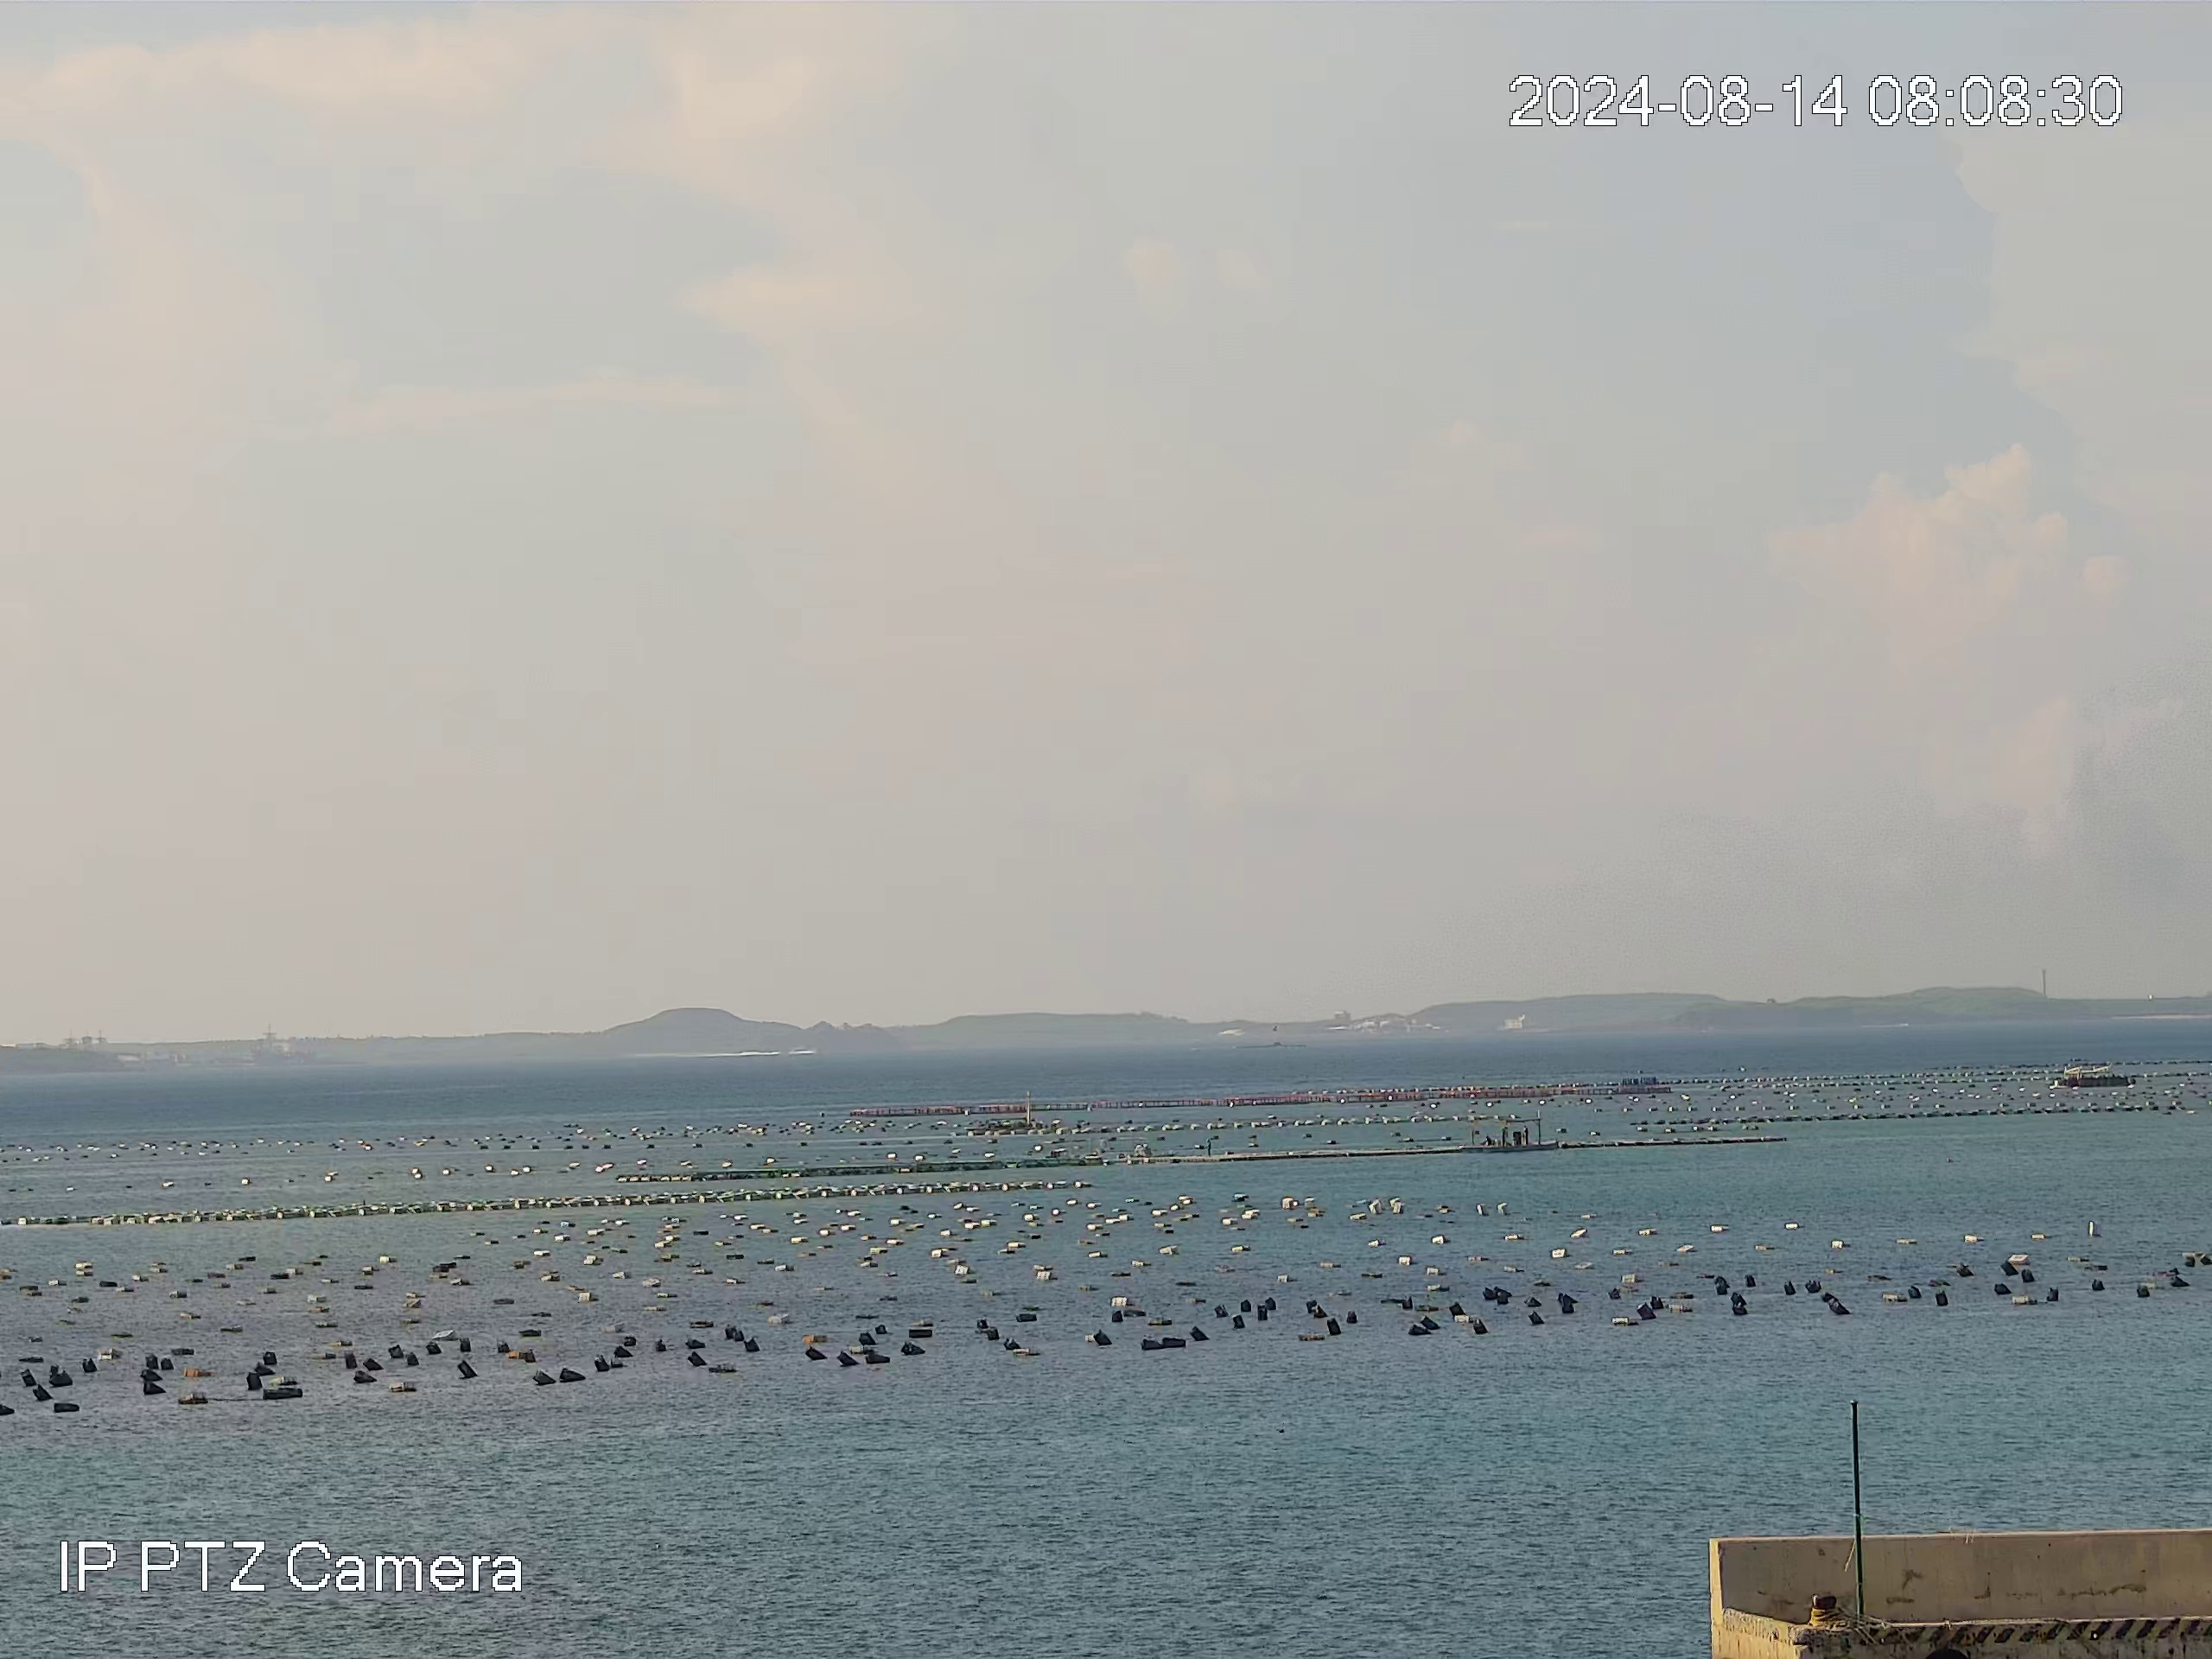boat: (1465, 1114, 1561, 1150), (2050, 1061, 2135, 1091)
